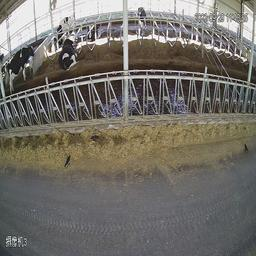cow: (7, 45, 35, 93), (59, 32, 79, 71), (55, 13, 76, 36), (137, 4, 149, 38), (85, 21, 101, 42)
